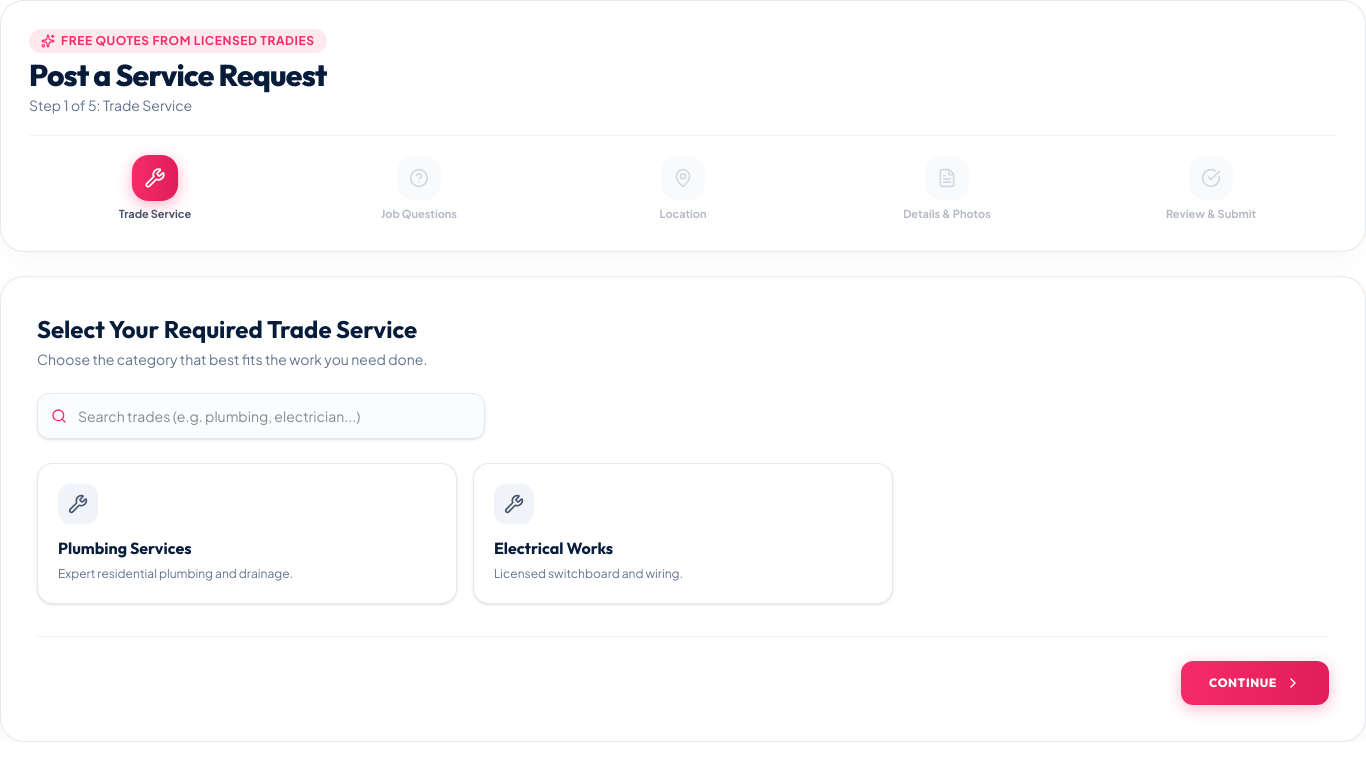
Test: ServiceRequestWizard Intake Workflow › renders Step 1 with service catalog and enforces service selection
The width and height of the screenshot is (1366, 768).
Expected: the heading "Plumbing Services" is shown, [58,538,192,558]
Expected: the heading "Electrical Works" is shown, [494,538,613,558]
Try to click continue without selecting a service
Click the button with test id "wizard-continue-button".
click(1255, 683)  # box [1181,661,1329,705]
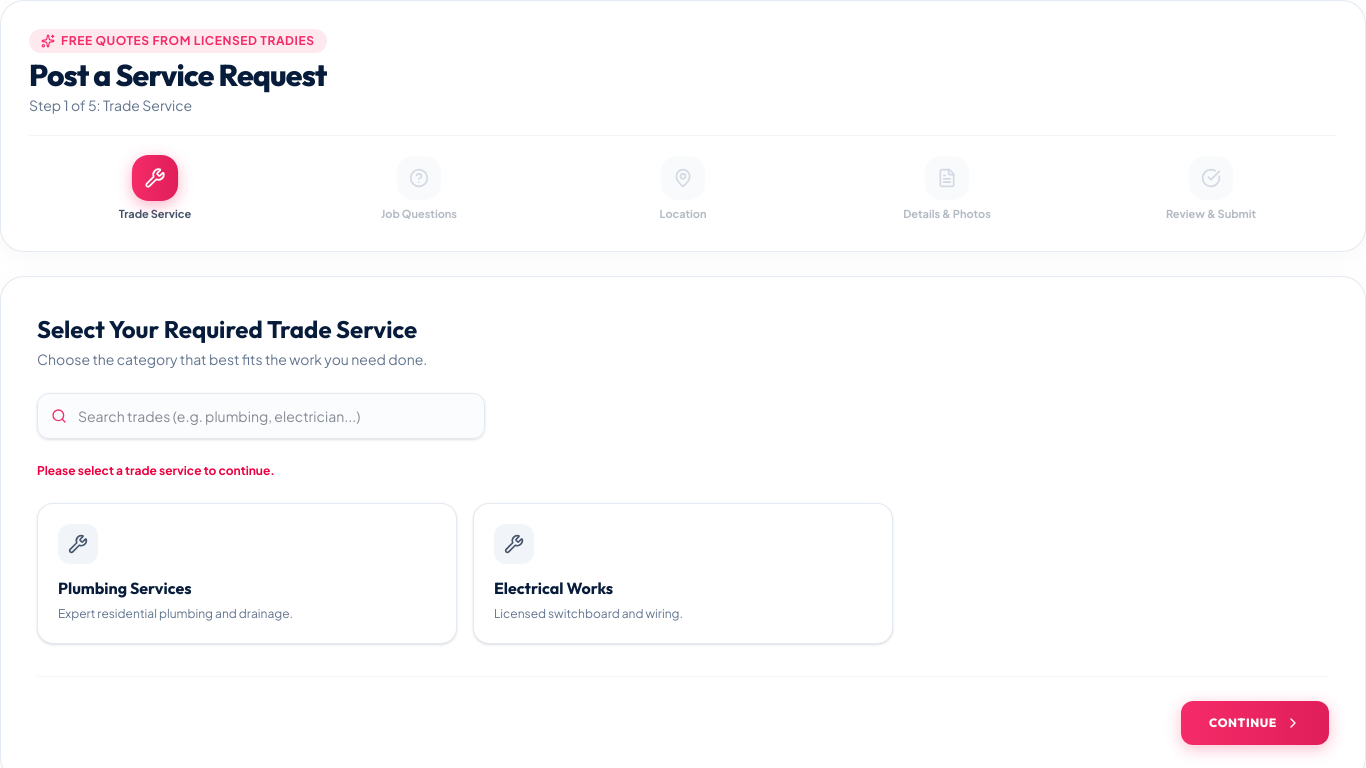
Expected: the text "Please select a trade service to continue." is shown, [37,462,275,478]
Select Plumbing Services
Click the button with test id "select-service-1".
click(78, 544)  # box [37,502,457,644]
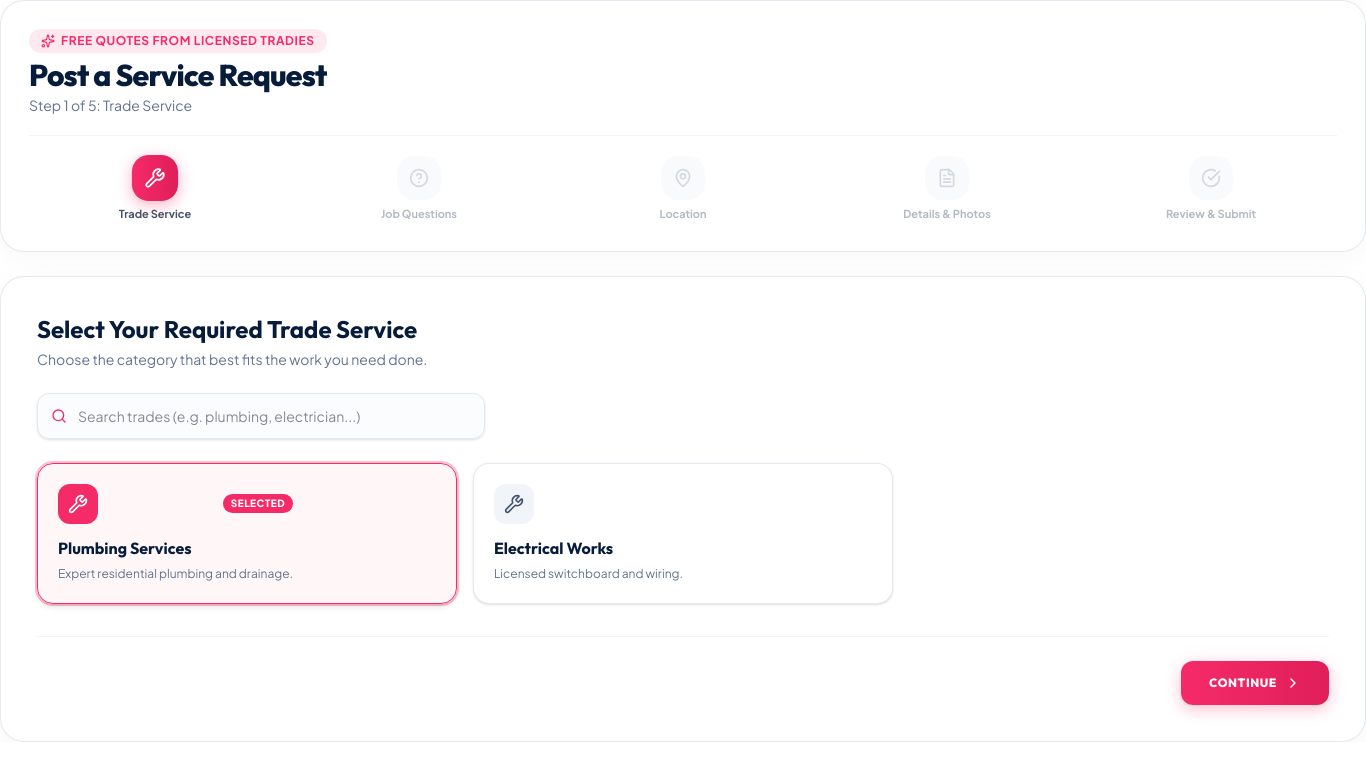
Click the button with test id "wizard-continue-button".
click(1255, 683)  # box [1181,661,1329,705]
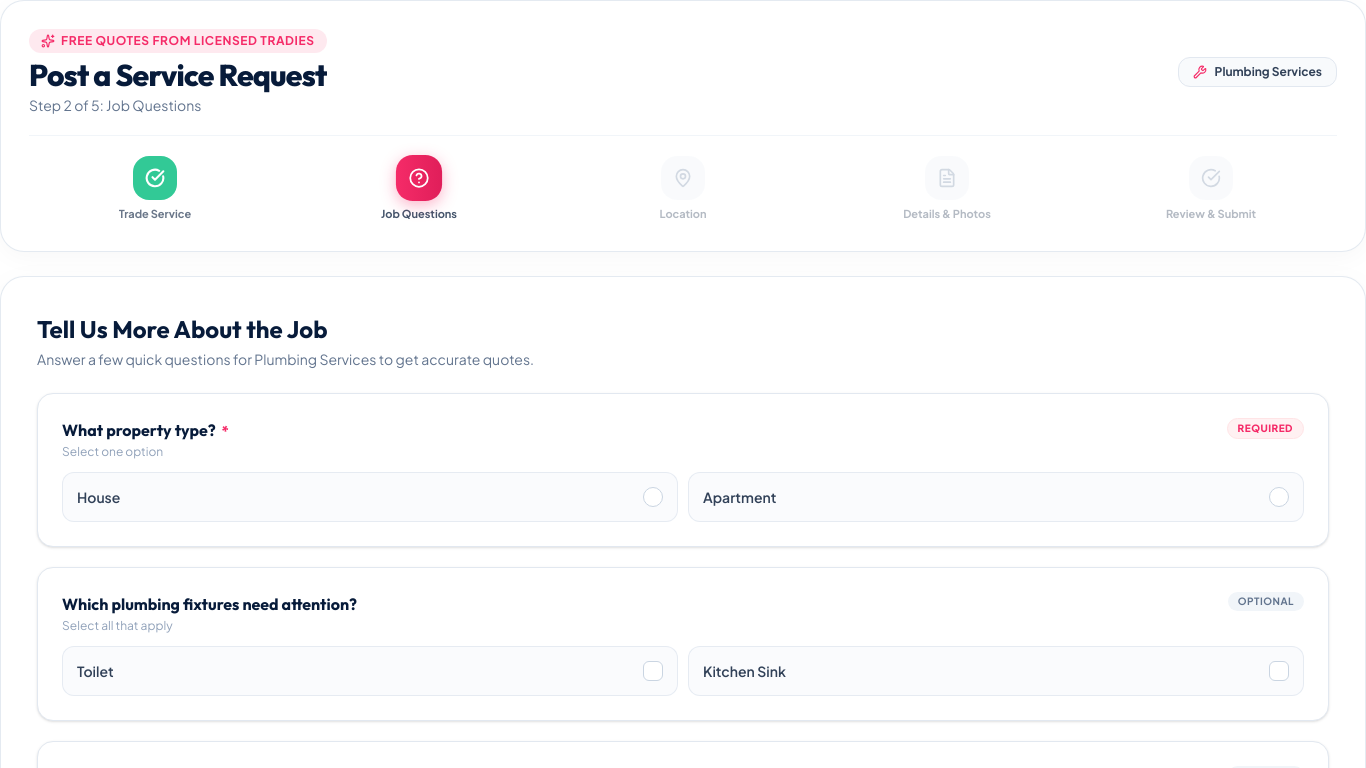
Expected: the text "What property type?" is shown, [62,420,216,440]
